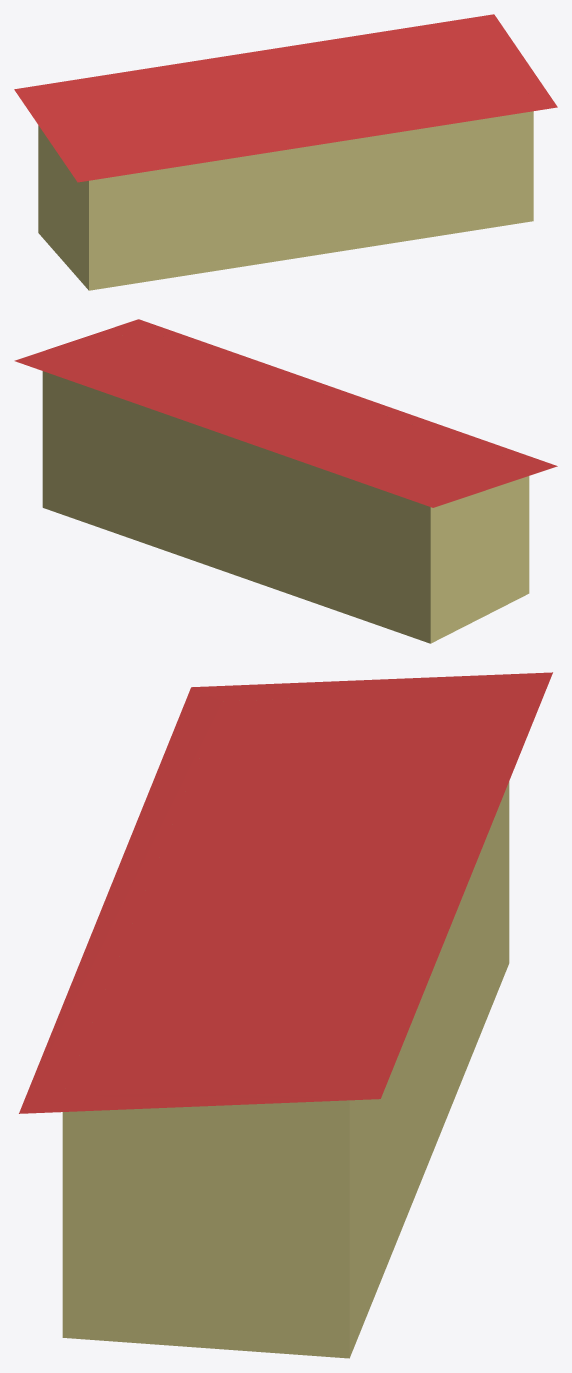
The picture shows the model from 3 angles, top to bottom: view 1: azimuth 30°, elevation 25°; view 2: azimuth 150°, elevation 25°; view 3: azimuth 270°, elevation 25°; orthographic projection. The views are drawn at different scales.
Size of the model in its own units: 28.14 by 14.04 by 8.06.
